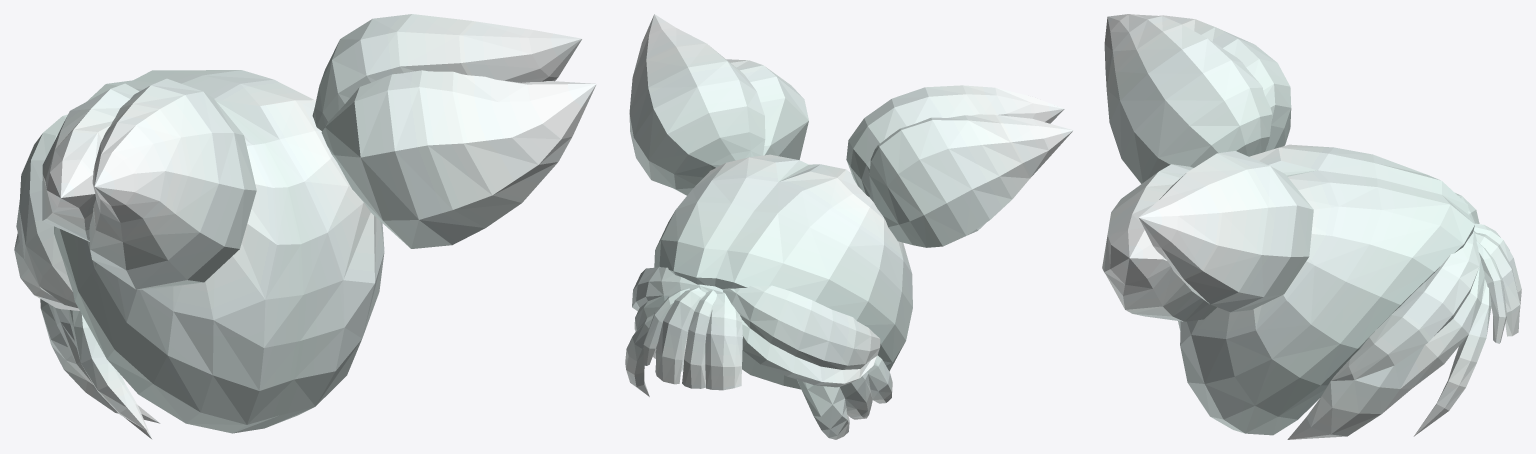
Rendered from CharSkyKid_Hair_TopTwoKnotBig.glb.
3 views of the same model, side by side, from view 1: azimuth 30°, elevation 25°; view 2: azimuth 150°, elevation 25°; view 3: azimuth 270°, elevation 25° (orthographic). The views are drawn at different scales.
Parts seen in each view (by area): view 1: CharSkyKid_Hair_TopTwoKnotBig; view 2: CharSkyKid_Hair_TopTwoKnotBig; view 3: CharSkyKid_Hair_TopTwoKnotBig.
Part boxes in pixels (x1=…): CharSkyKid_Hair_TopTwoKnotBig: x1=14, y1=14, x2=596, y2=439; CharSkyKid_Hair_TopTwoKnotBig: x1=625, y1=14, x2=1073, y2=439; CharSkyKid_Hair_TopTwoKnotBig: x1=1102, y1=14, x2=1521, y2=439.
Size of the model in its own units: 4.97 by 3.47 by 3.94.
1 material, 1 textured.
